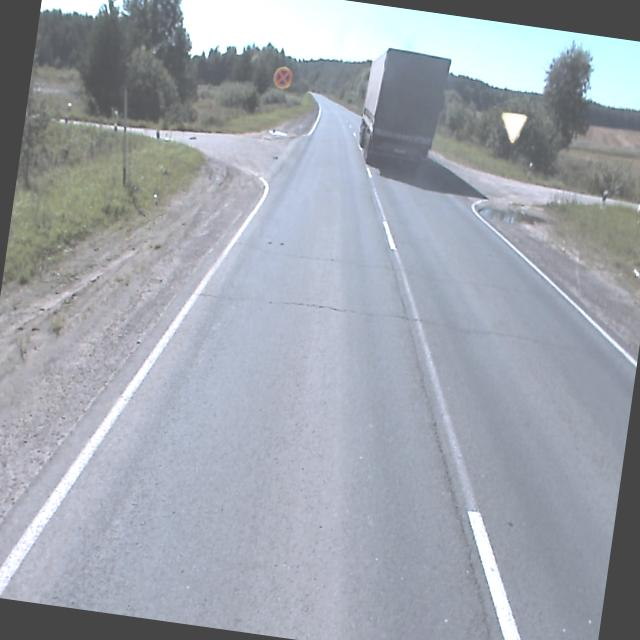road: (0, 93, 637, 640)
